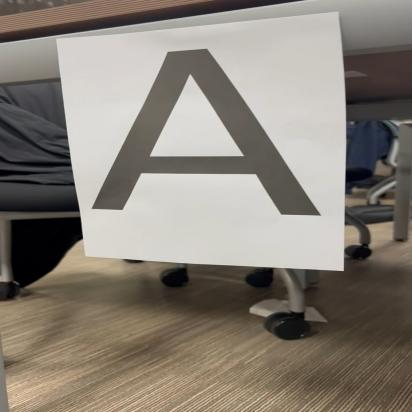seat: (90, 46, 341, 224)
